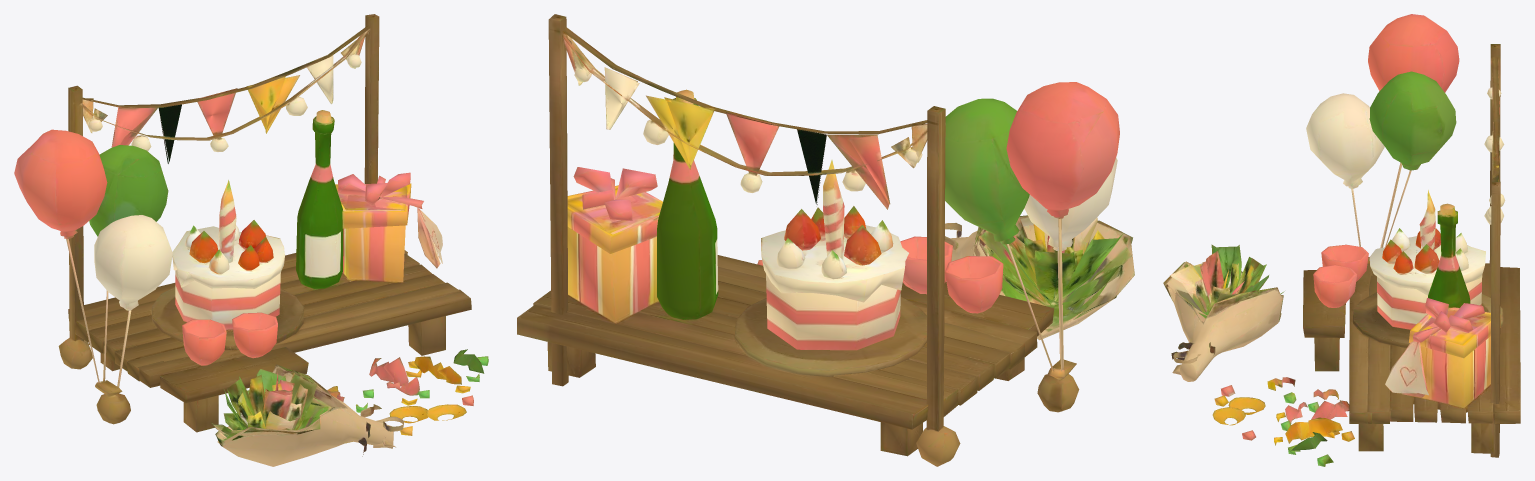
Rendered from prazdnik.glb.
3 views of the same model, side by side, from view 1: azimuth 30°, elevation 25°; view 2: azimuth 150°, elevation 25°; view 3: azimuth 270°, elevation 25° (orthographic). The views are drawn at different scales.
Visible parts, largest first — view 1: mesh_node; view 2: mesh_node; view 3: mesh_node.
Boxes of the visible parts, <box> form: mesh_node: <box>14,14,488,466</box>; mesh_node: <box>517,14,1134,466</box>; mesh_node: <box>1163,14,1520,466</box>.
Size of the model in its own units: 1 by 0.6484 by 0.7637.
1 material, 1 textured.
